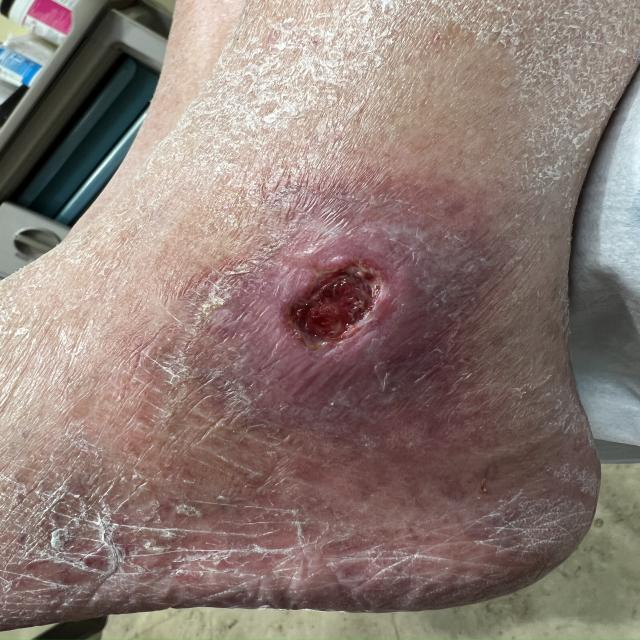stage-3: (290, 265, 380, 349)
